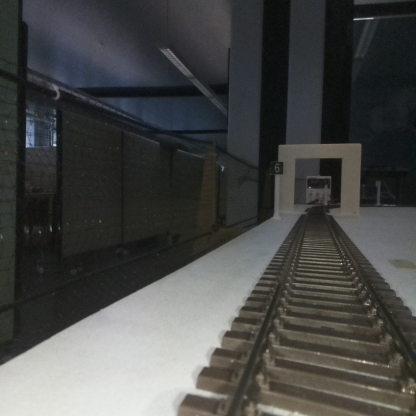black-info-6: (271, 160, 283, 218)
